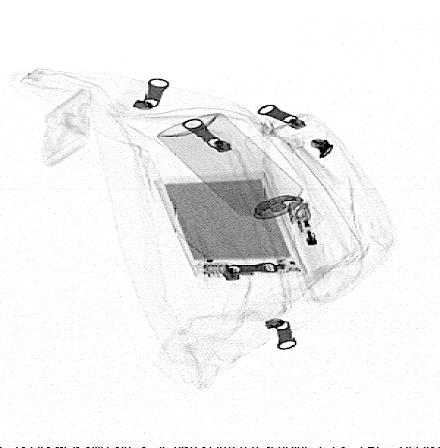Lighter: (286, 201, 329, 273)
Powerbank: (155, 171, 308, 279)
Sprayer: (158, 113, 325, 240)
